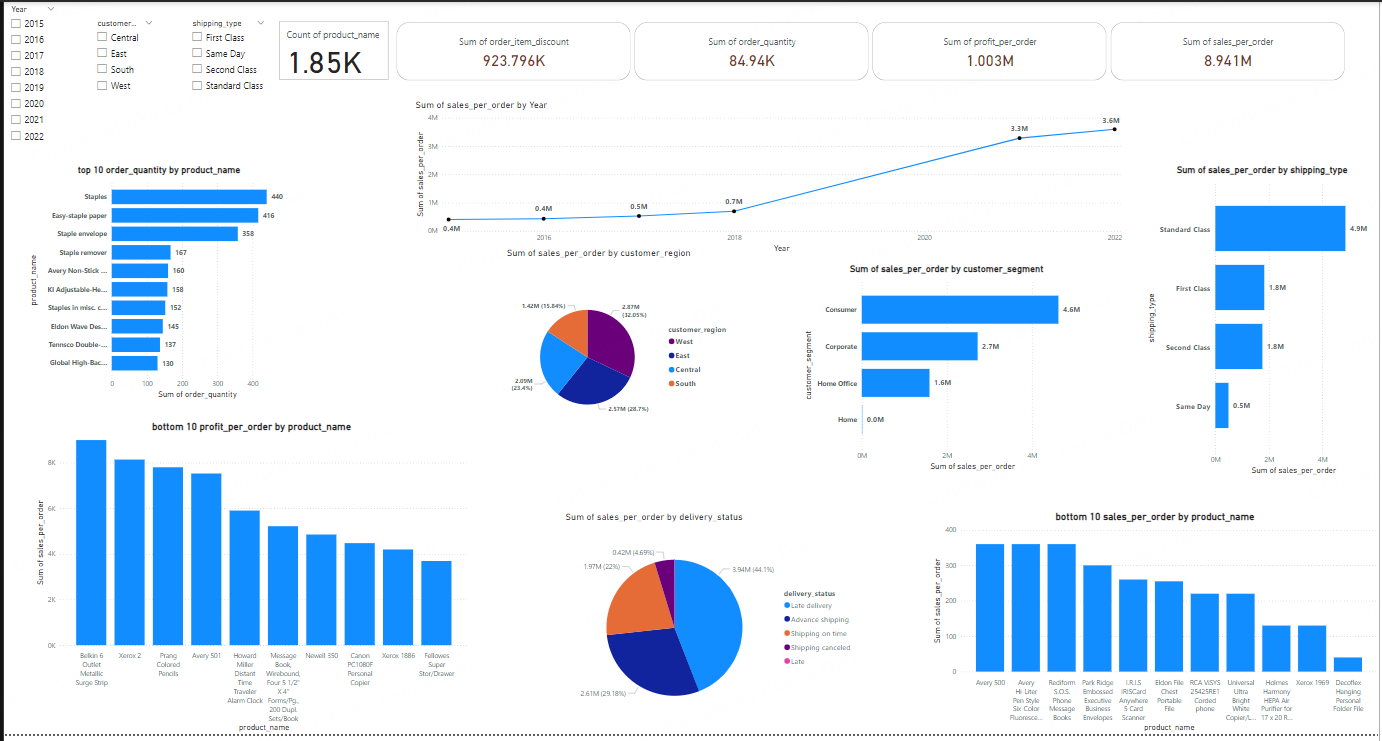

What the dashboard file says about the page in this screenshot:
{"tool":"powerbi","page":{"name":"Page 2","canvas":[2480,1320],"ordinal":0},"visuals":[{"type":"clusteredColumnChart","title":"bottom 10 profit_per_order by product_name","fields":{"Category":["ecommerce_data_dayo.product_name"],"Y":["Sum(ecommerce_data_dayo.sales_per_order)"]},"box":[51.8,754.7,788.5,565.5],"z":1000},{"type":"pieChart","fields":{"Category":["ecommerce_data_dayo.delivery_status"],"Y":["Sum(ecommerce_data_dayo.sales_per_order)"]},"box":[1006.3,917.5,533.1,402.9],"z":2000},{"type":"clusteredBarChart","fields":{"Category":["ecommerce_data_dayo.shipping_type"],"Y":["Sum(ecommerce_data_dayo.sales_per_order)"]},"box":[2054,293.4,425.7,564.1],"z":3000},{"type":"clusteredBarChart","fields":{"Category":["ecommerce_data_dayo.customer_segment"],"Y":["Sum(ecommerce_data_dayo.sales_per_order)"]},"box":[1437.4,470.9,522.7,378.5],"z":4000},{"type":"clusteredColumnChart","title":"bottom 10 sales_per_order by product_name","fields":{"Category":["ecommerce_data_dayo.product_name"],"Y":["Sum(ecommerce_data_dayo.sales_per_order)"]},"box":[1669.6,917.5,810,402.9],"z":5000},{"type":"cardVisual","fields":{"Data":["Sum(ecommerce_data_dayo.order_item_discount)","Sum(ecommerce_data_dayo.order_quantity)","Sum(ecommerce_data_dayo.profit_per_order)","Sum(ecommerce_data_dayo.sales_per_order)"]},"box":[696.4,31,1731.6,115.7],"z":6000},{"type":"lineChart","fields":{"Category":["ecommerce_data_dayo.order_date.Variation.Date Hierarchy.Year"],"Y":["Sum(ecommerce_data_dayo.sales_per_order)"]},"box":[735.6,175.6,1283.2,281],"z":7000},{"type":"pieChart","fields":{"Category":["ecommerce_data_dayo.customer_region"],"Y":["Sum(ecommerce_data_dayo.sales_per_order)"]},"box":[901.2,441.6,428.1,378.5],"z":8000},{"type":"clusteredBarChart","title":"top 10 order_quantity by product_name","fields":{"Category":["ecommerce_data_dayo.product_name"],"Y":["Sum(ecommerce_data_dayo.order_quantity)"]},"box":[40.6,292.9,477.6,428.1],"z":9000},{"type":"slicer","fields":{"Values":["ecommerce_data_dayo.shipping_type"]},"box":[326.5,24.8,155,150.8],"z":10000},{"type":"slicer","fields":{"Values":["ecommerce_data_dayo.order_date.Variation.Date Hierarchy.Year"]},"box":[0,0,103.3,293.4],"z":11000},{"type":"slicer","fields":{"Values":["ecommerce_data_dayo.customer_region"]},"box":[155,24.8,124,181.8],"z":12000},{"type":"cardVisual","fields":{"Data":["Count(ecommerce_data_dayo.product_name)"]},"box":[490.9,30.2,207.1,116.3],"z":13000}]}

Visuals, with their boxes in screenshot pixels (x1, y1, x2, y2), scaled from the page's 2480x1320 canvas onto the 1382x741 screenshot:
"bottom 10 profit_per_order by product_name" clusteredColumnChart: BBox(29, 424, 468, 740)
pieChart - ecommerce_data_dayo.delivery_status x Sum(ecommerce_data_dayo.sales_per_order): BBox(561, 515, 858, 740)
clusteredBarChart - ecommerce_data_dayo.shipping_type x Sum(ecommerce_data_dayo.sales_per_order): BBox(1145, 165, 1381, 481)
clusteredBarChart - ecommerce_data_dayo.customer_segment x Sum(ecommerce_data_dayo.sales_per_order): BBox(801, 264, 1092, 477)
"bottom 10 sales_per_order by product_name" clusteredColumnChart: BBox(930, 515, 1381, 740)
cardVisual - Sum(ecommerce_data_dayo.order_item_discount) x Sum(ecommerce_data_dayo.order_quantity): BBox(388, 17, 1353, 82)
lineChart - ecommerce_data_dayo.order_date.Variation.Date Hierarchy.Year x Sum(ecommerce_data_dayo.sales_per_order): BBox(410, 99, 1125, 256)
pieChart - ecommerce_data_dayo.customer_region x Sum(ecommerce_data_dayo.sales_per_order): BBox(502, 248, 741, 460)
"top 10 order_quantity by product_name" clusteredBarChart: BBox(23, 164, 289, 405)
slicer - ecommerce_data_dayo.shipping_type: BBox(182, 14, 268, 99)
slicer - ecommerce_data_dayo.order_date.Variation.Date Hierarchy.Year: BBox(0, 0, 58, 165)
slicer - ecommerce_data_dayo.customer_region: BBox(86, 14, 155, 116)
cardVisual - Count(ecommerce_data_dayo.product_name): BBox(274, 17, 389, 82)
